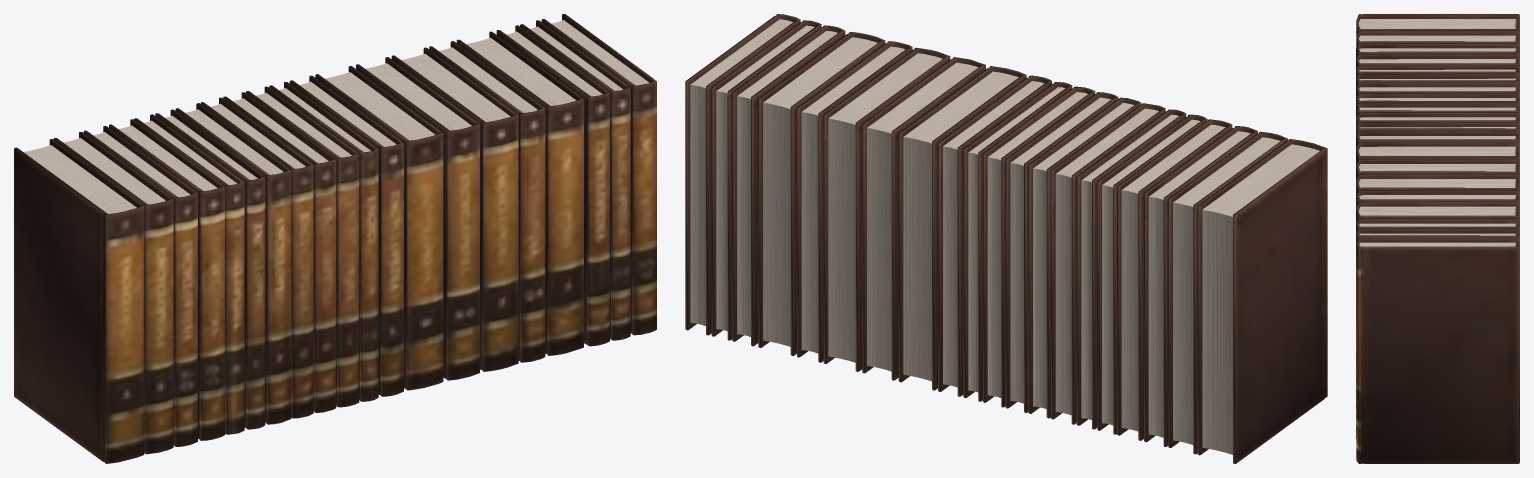
The model's file is book_encyclopedia_set_01.2dab3e2a.glb.
3 views of the same model, side by side, from view 1: azimuth 30°, elevation 25°; view 2: azimuth 150°, elevation 25°; view 3: azimuth 270°, elevation 25° (orthographic). The views are drawn at different scales.
Visible parts, largest first — view 1: book_encyclopedia_set_01_book01, book_encyclopedia_set_01_book13, book_encyclopedia_set_01_book15, book_encyclopedia_set_01_book17, book_encyclopedia_set_01_book14, book_encyclopedia_set_01_book02, book_encyclopedia_set_01_book16, book_encyclopedia_set_01_book04, book_encyclopedia_set_01_book20, book_encyclopedia_set_01_book07, book_encyclopedia_set_01_book18, book_encyclopedia_set_01_book12 (+8 smaller); view 2: book_encyclopedia_set_01_book01, book_encyclopedia_set_01_book13, book_encyclopedia_set_01_book15, book_encyclopedia_set_01_book17, book_encyclopedia_set_01_book14, book_encyclopedia_set_01_book02, book_encyclopedia_set_01_book04, book_encyclopedia_set_01_book16, book_encyclopedia_set_01_book20, book_encyclopedia_set_01_book18, book_encyclopedia_set_01_book07, book_encyclopedia_set_01_book12 (+8 smaller); view 3: book_encyclopedia_set_01_book20, book_encyclopedia_set_01_book17, book_encyclopedia_set_01_book13, book_encyclopedia_set_01_book01, book_encyclopedia_set_01_book15, book_encyclopedia_set_01_book14, book_encyclopedia_set_01_book02, book_encyclopedia_set_01_book03, book_encyclopedia_set_01_book16, book_encyclopedia_set_01_book18, book_encyclopedia_set_01_book12, book_encyclopedia_set_01_book19 (+8 smaller).
Part boxes in pixels (<box>): book_encyclopedia_set_01_book01: <box>14,139,144,463</box>; book_encyclopedia_set_01_book13: <box>315,66,443,390</box>; book_encyclopedia_set_01_book15: <box>391,47,518,371</box>; book_encyclopedia_set_01_book17: <box>456,31,583,355</box>; book_encyclopedia_set_01_book14: <box>356,57,479,380</box>; book_encyclopedia_set_01_book02: <box>53,132,173,454</box>; book_encyclopedia_set_01_book16: <box>429,41,545,362</box>; book_encyclopedia_set_01_book04: <box>109,119,224,440</box>; book_encyclopedia_set_01_book20: <box>541,14,656,335</box>; book_encyclopedia_set_01_book07: <box>175,103,291,424</box>; book_encyclopedia_set_01_book18: <box>496,25,609,346</box>; book_encyclopedia_set_01_book12: <box>289,75,403,396</box>; book_encyclopedia_set_01_book01: <box>1197,139,1327,463</box>; book_encyclopedia_set_01_book13: <box>898,66,1026,390</box>; book_encyclopedia_set_01_book15: <box>823,47,950,371</box>; book_encyclopedia_set_01_book17: <box>758,32,885,355</box>; book_encyclopedia_set_01_book14: <box>862,57,985,380</box>; book_encyclopedia_set_01_book02: <box>1168,131,1287,454</box>; book_encyclopedia_set_01_book04: <box>1117,119,1232,440</box>; book_encyclopedia_set_01_book16: <box>797,41,912,362</box>; book_encyclopedia_set_01_book20: <box>685,14,800,335</box>; book_encyclopedia_set_01_book18: <box>732,25,845,346</box>; book_encyclopedia_set_01_book07: <box>1051,103,1165,424</box>; book_encyclopedia_set_01_book12: <box>938,75,1051,396</box>; book_encyclopedia_set_01_book20: <box>1356,238,1519,463</box>; book_encyclopedia_set_01_book17: <box>1356,202,1519,398</box>; book_encyclopedia_set_01_book13: <box>1356,142,1519,165</box>; book_encyclopedia_set_01_book01: <box>1356,14,1519,34</box>; book_encyclopedia_set_01_book15: <box>1356,174,1519,206</box>; book_encyclopedia_set_01_book14: <box>1356,159,1519,180</box>; book_encyclopedia_set_01_book02: <box>1356,30,1519,47</box>; book_encyclopedia_set_01_book03: <box>1356,43,1519,59</box>; book_encyclopedia_set_01_book16: <box>1357,190,1519,204</box>; book_encyclopedia_set_01_book18: <box>1356,218,1519,438</box>; book_encyclopedia_set_01_book12: <box>1356,131,1519,166</box>; book_encyclopedia_set_01_book19: <box>1356,228,1519,424</box>.
Size of the model in its own units: 0.95 by 0.4091 by 0.281.
Materials: 2 (2 with a texture image).
